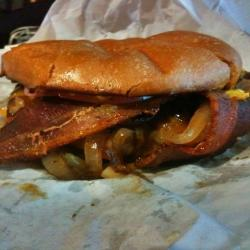burger: (2, 32, 250, 180)
